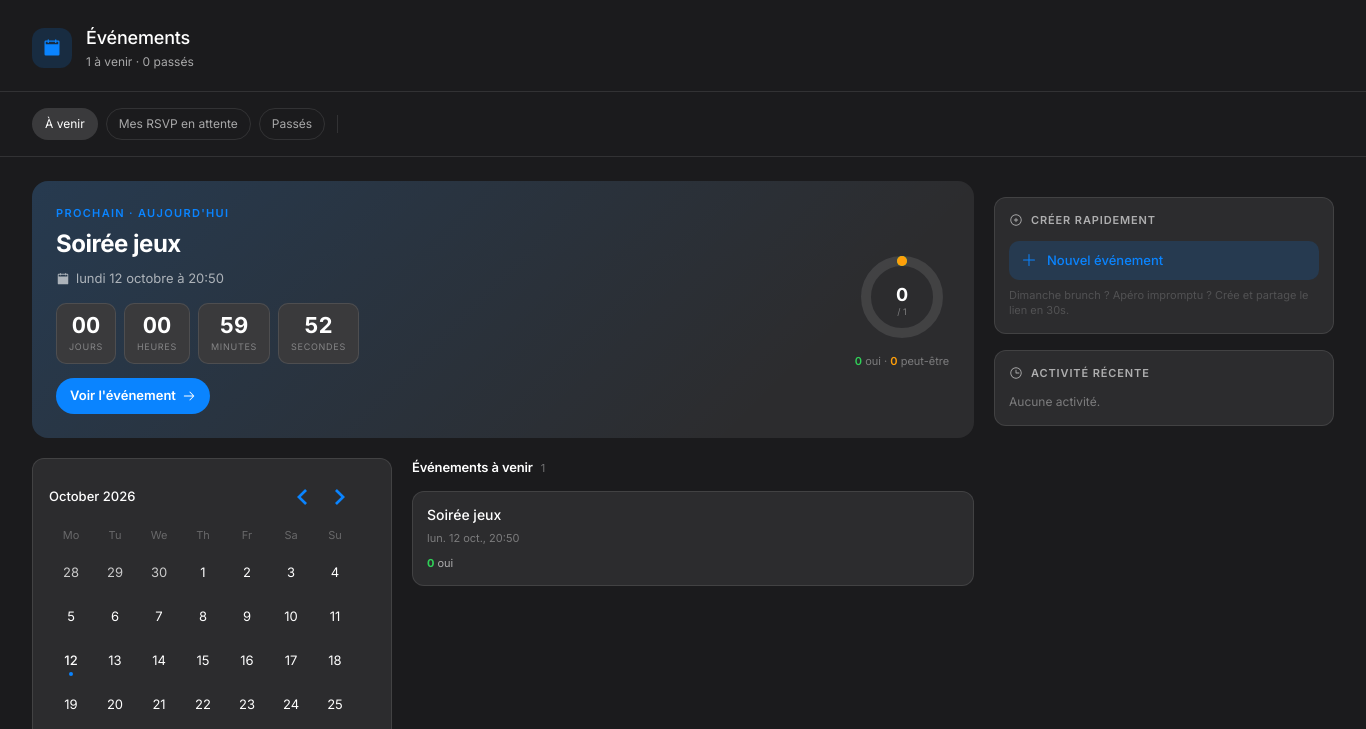
Actions destructives — grisées, jamais masquées (MAN-246) › EventsDashboard — bouton « Modifier » › reste visible et inerte pour un membre simple
Click the button "Voir l'événement" at (133, 396), box left=56, top=378, right=210, bottom=414
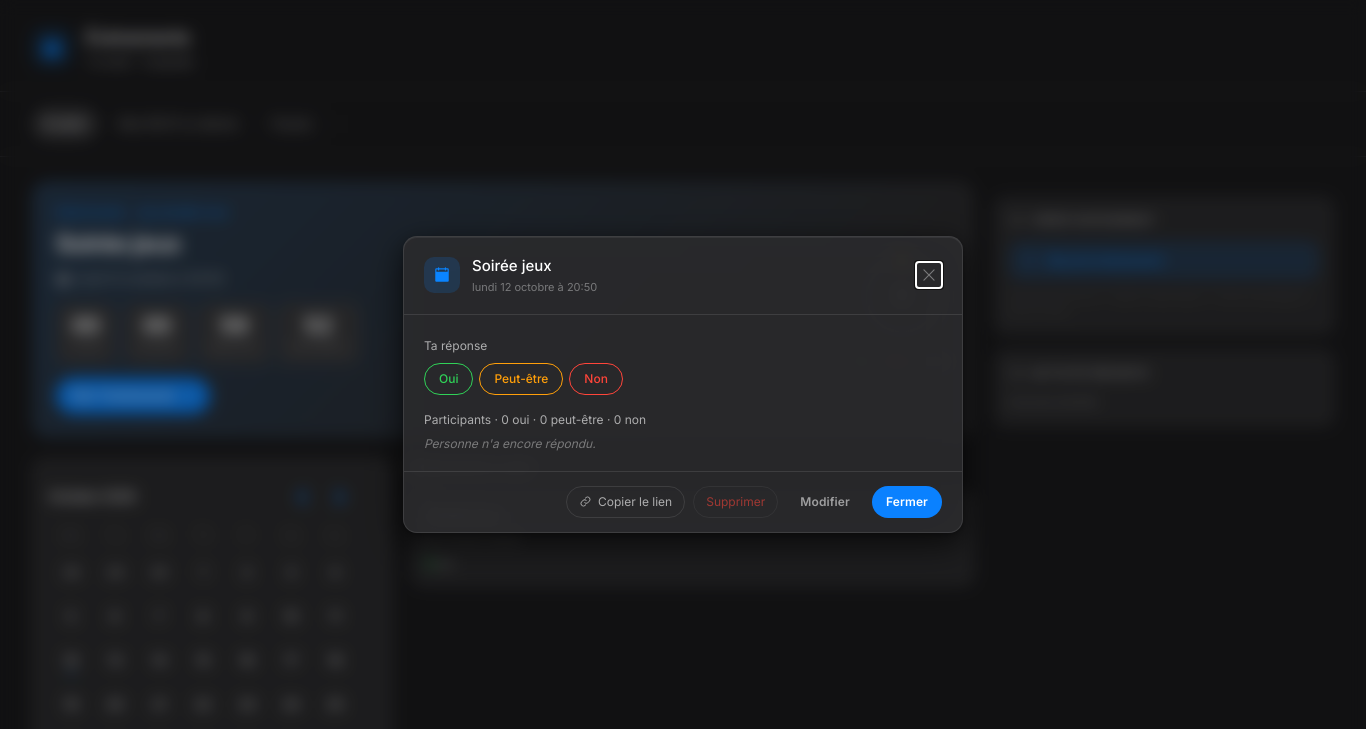
Now the button "Modifier" is shown, box left=786, top=486, right=864, bottom=518
